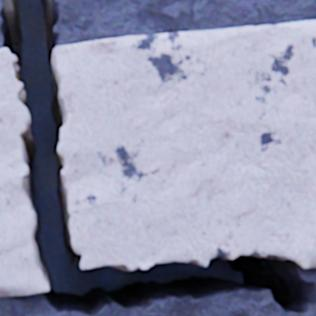broken_brick: (54, 21, 315, 270), (0, 49, 48, 296)
crack: (0, 0, 315, 315)
